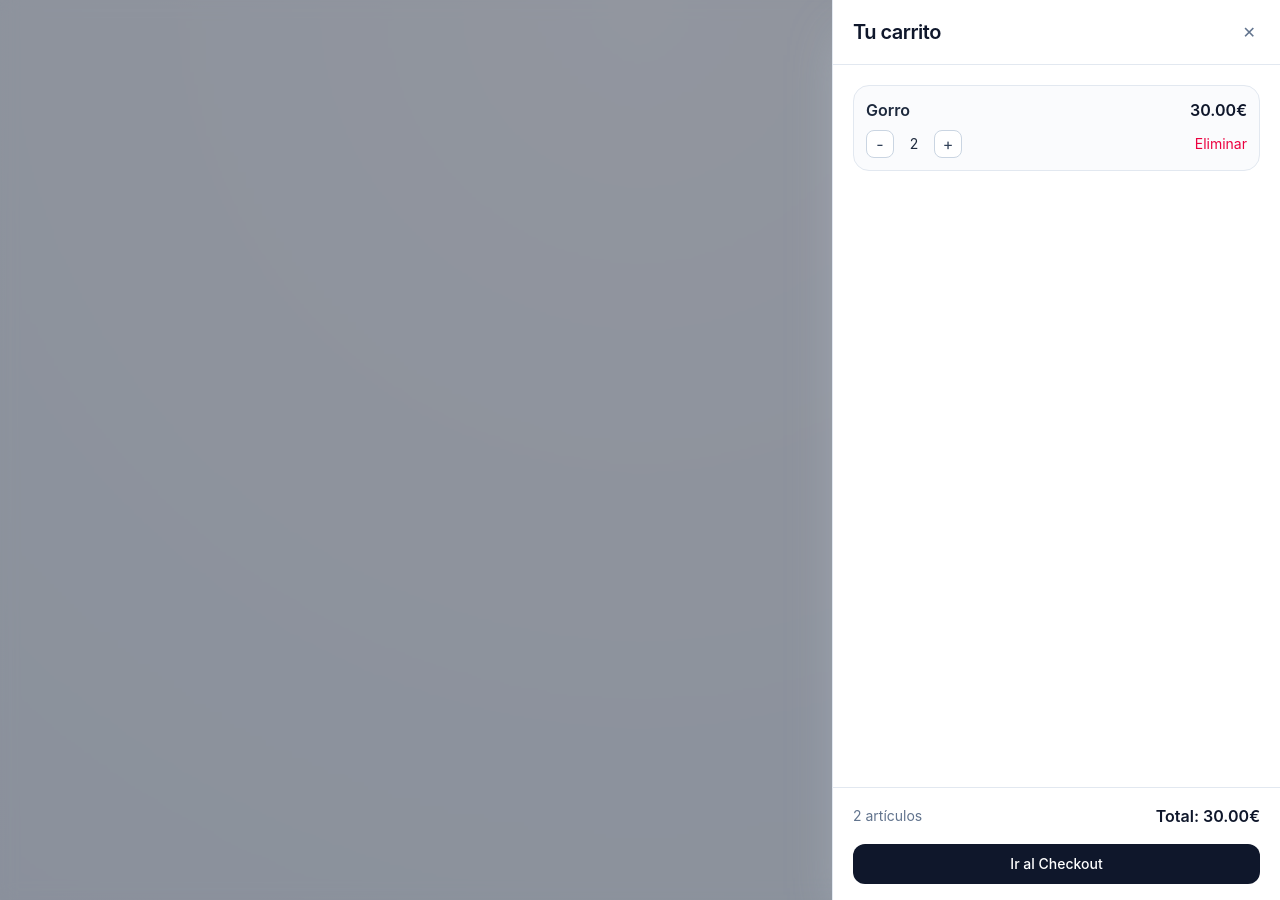
Test case: CartDrawer › Interactions › should display updated quantity after decrement
The width and height of the screenshot is (1280, 900).
Expected: the text "2" is shown, 910,135 -> 918,152
// Click - button
Click the button "-".
click(880, 144)  # box 866,130 -> 894,158
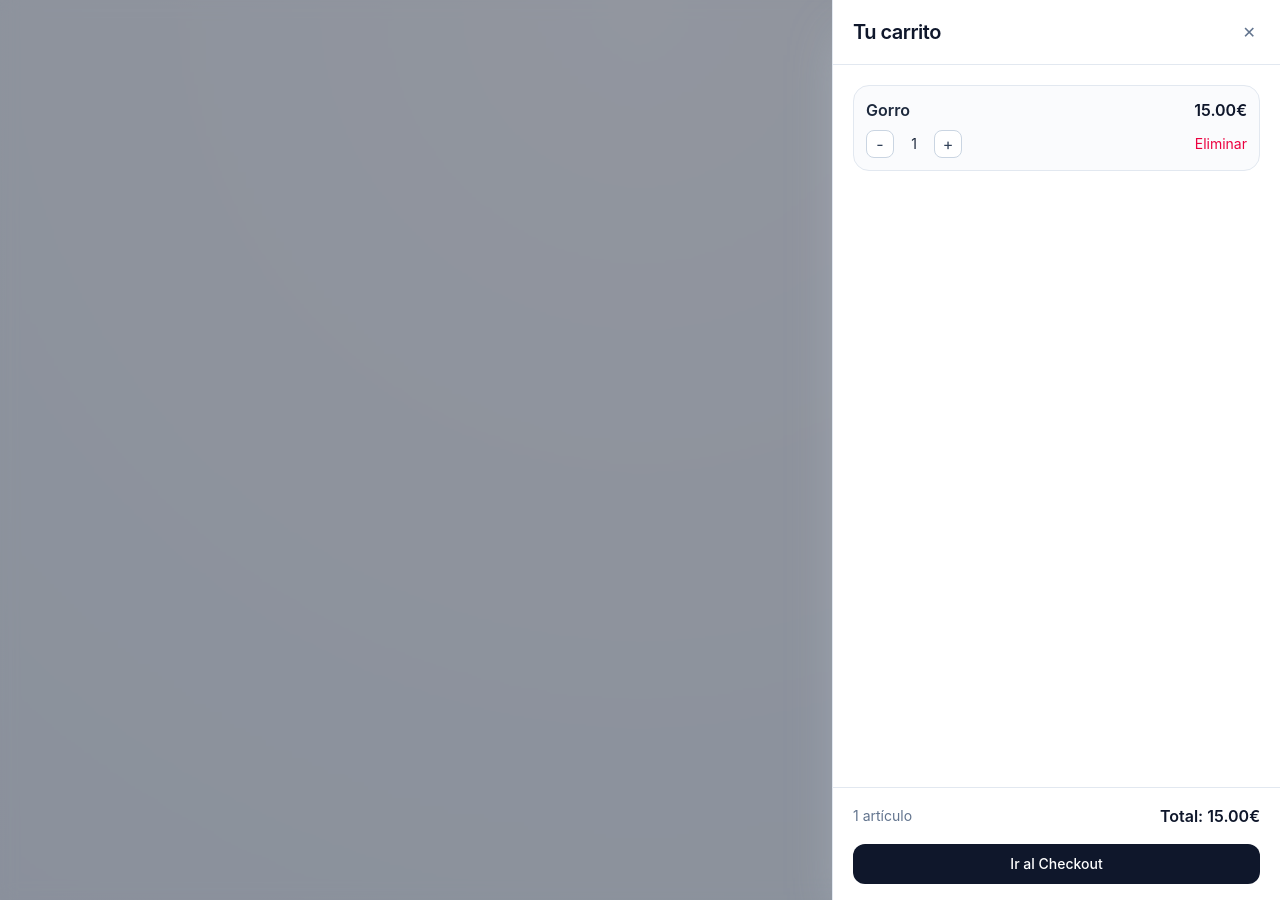
Expected: the text "1" is shown, 911,135 -> 917,152
